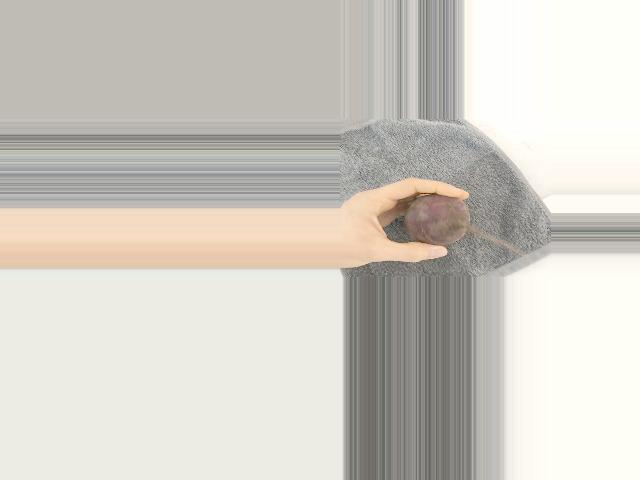beet: (404, 194, 469, 245)
